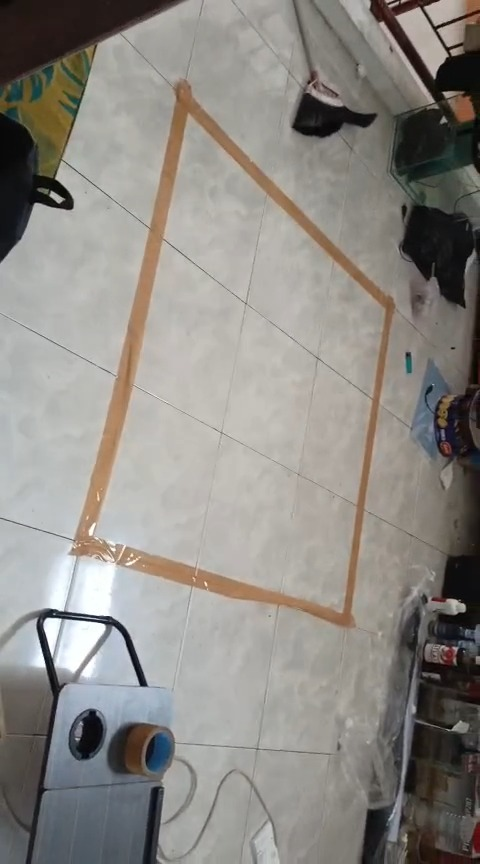floor marking: (71, 80, 394, 626)
